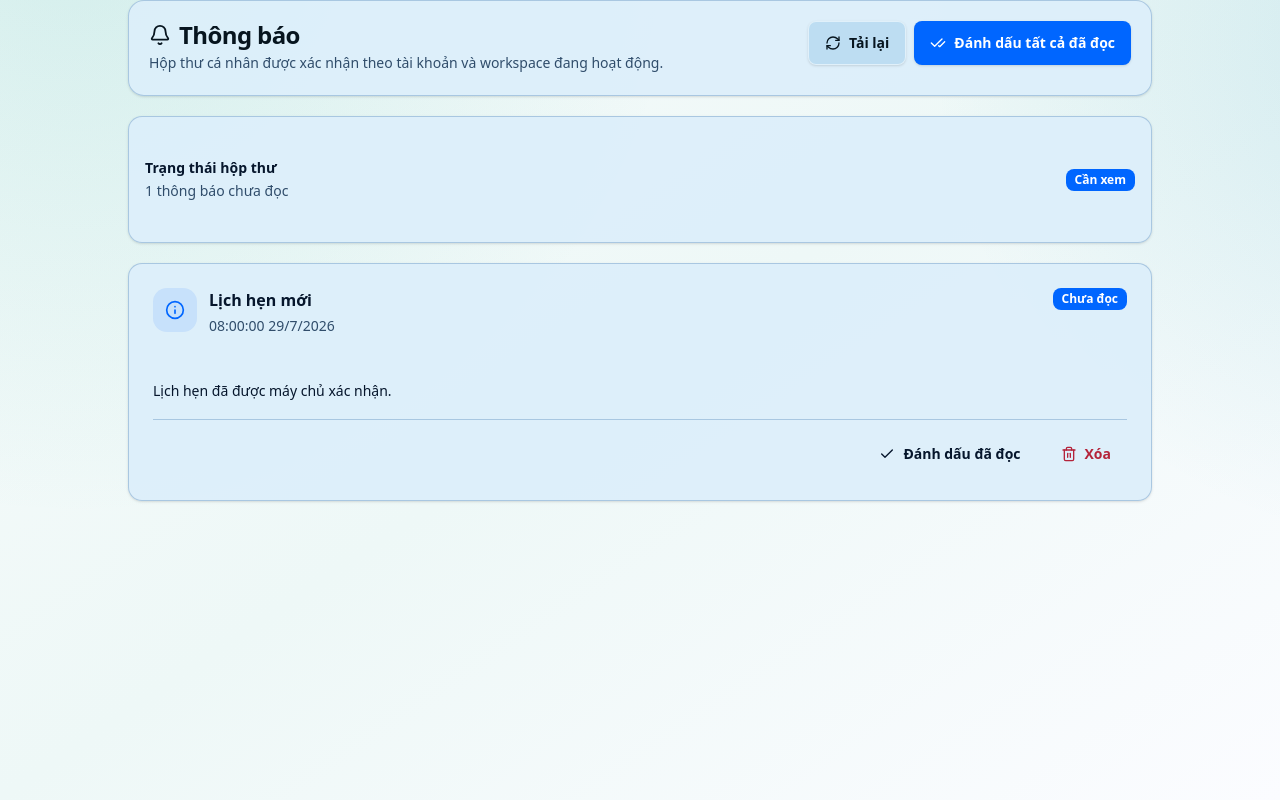
Test: NotificationsPage personal inbox truth › keeps cached data visible after a failed refresh
Expected: the text "Lịch hẹn mới" is shown, [209,288,312,312]
What coordinates should you click on to do the following:
click the button "Tải lại"
I would click on:
 (857, 43)
Its box is [808,21,906,65].
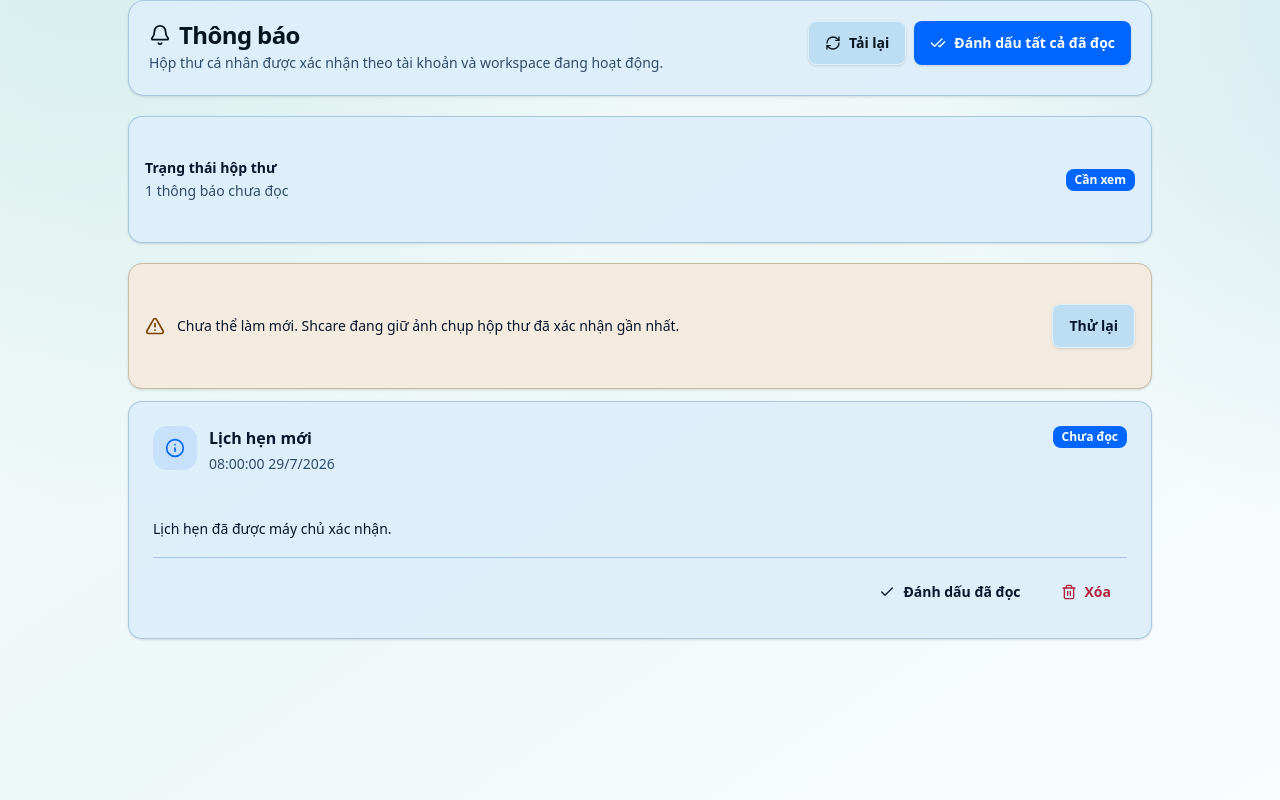
Expected: the text "Lịch hẹn mới" is shown, [209,426,312,450]
Expected: the text "đang giữ ảnh chụp hộp thư" is shown, [177,316,679,335]
